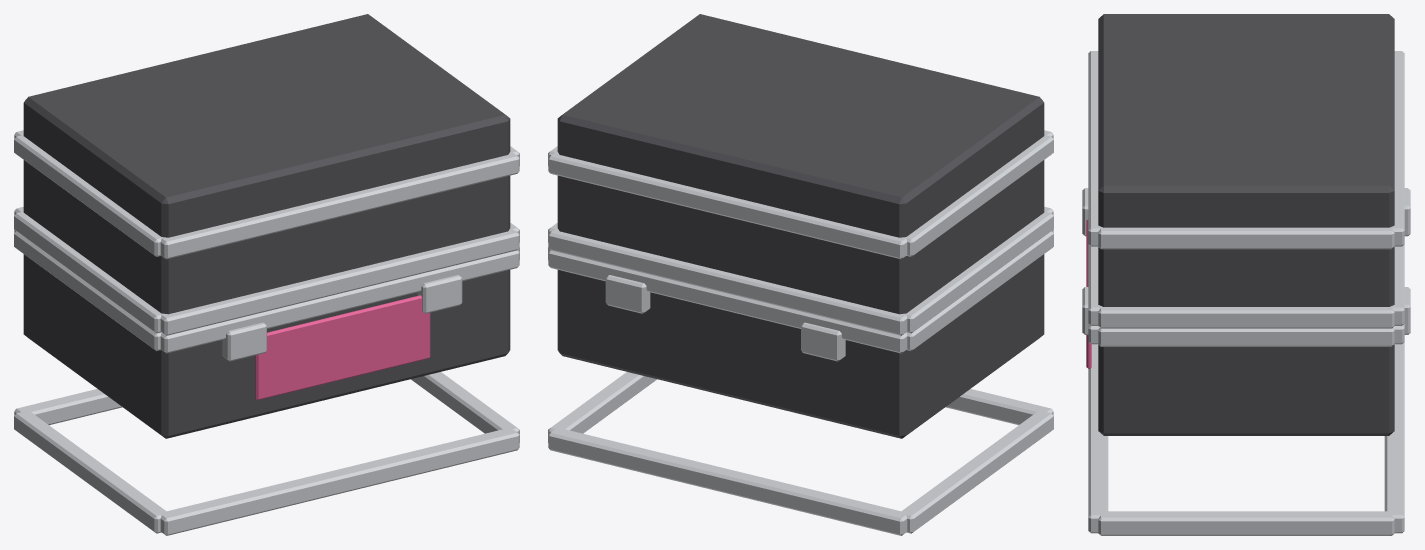
The model's file is live-music-venue-and-festival-stage-road-case-small-ea804af6.glb.
3 views of the same model, side by side, from view 1: azimuth 30°, elevation 25°; view 2: azimuth 150°, elevation 25°; view 3: azimuth 270°, elevation 25° (orthographic). The views are drawn at different scales.
Parts seen in each view (by area): view 1: road-case-small, lid, lid/metal; view 2: road-case-small, lid, lid/metal; view 3: lid, road-case-small, lid/metal.
Part boxes in pixels (box(x1,y1,x2,y2)): road-case-small: box(14, 160, 519, 535); lid: box(23, 14, 510, 285); lid/metal: box(14, 130, 519, 335); road-case-small: box(548, 161, 1053, 535); lid: box(557, 14, 1044, 287); lid/metal: box(548, 130, 1053, 335); lid: box(1098, 14, 1394, 280); road-case-small: box(1082, 188, 1410, 535); lid/metal: box(1088, 51, 1404, 328).
Bounding box in the file's own units: 0.65 × 0.565 × 0.4881.
